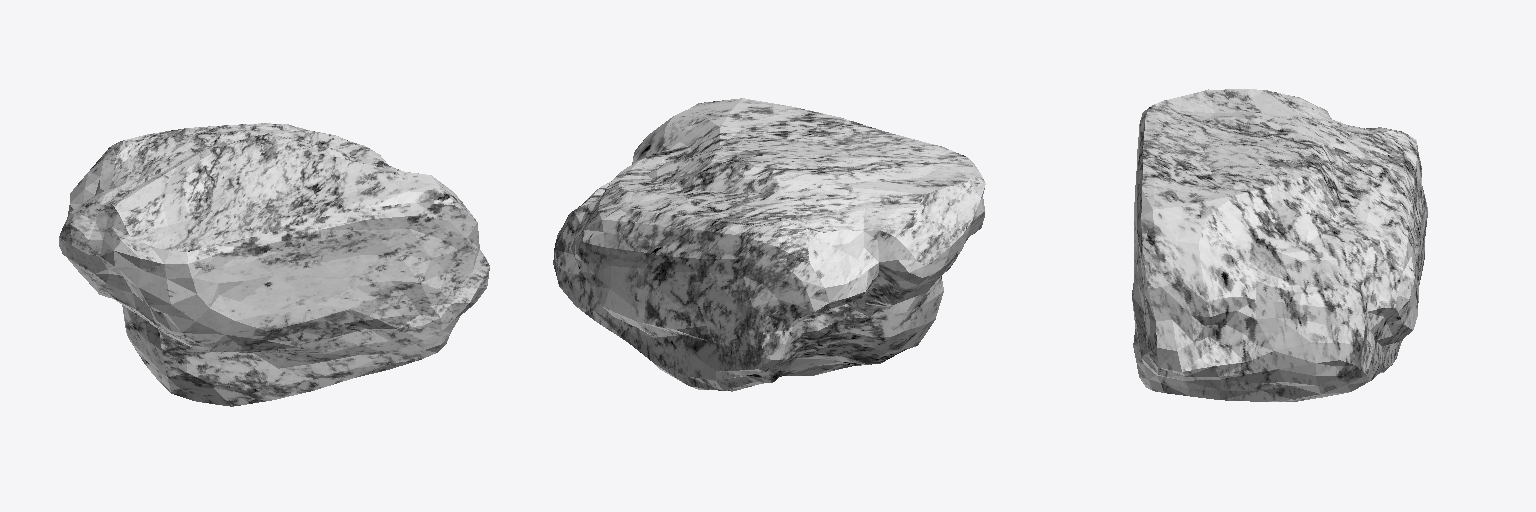
3 views of the same model, side by side, from view 1: azimuth 30°, elevation 25°; view 2: azimuth 150°, elevation 25°; view 3: azimuth 270°, elevation 25° (orthographic).
Parts seen in each view (by area): view 1: roca_nieve_Rock_1; view 2: roca_nieve_Rock_1; view 3: roca_nieve_Rock_1.
Part boxes in pixels (left/top/right/bottom): roca_nieve_Rock_1: left=59, top=123, right=489, bottom=406; roca_nieve_Rock_1: left=553, top=98, right=985, bottom=391; roca_nieve_Rock_1: left=1132, top=89, right=1427, bottom=401.
Bounding box in the file's own units: 2.19 × 1.16 × 1.53.
Materials: 1 (1 with a texture image).